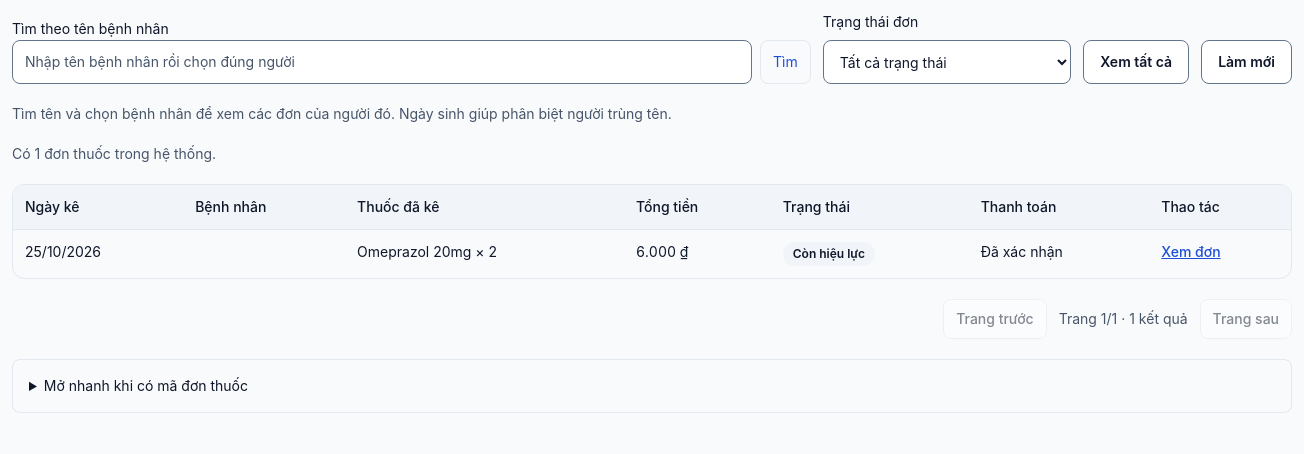
prescription list › does not turn typed patient names or failed searches into patient identifiers
Check: the link "Xem đơn" is shown, box [1161, 243, 1221, 260]
Type "Nguyễn An" into the field labelled "Tìm theo tên bệnh nhân" at {"x": 382, "y": 62}, box [12, 40, 752, 84]
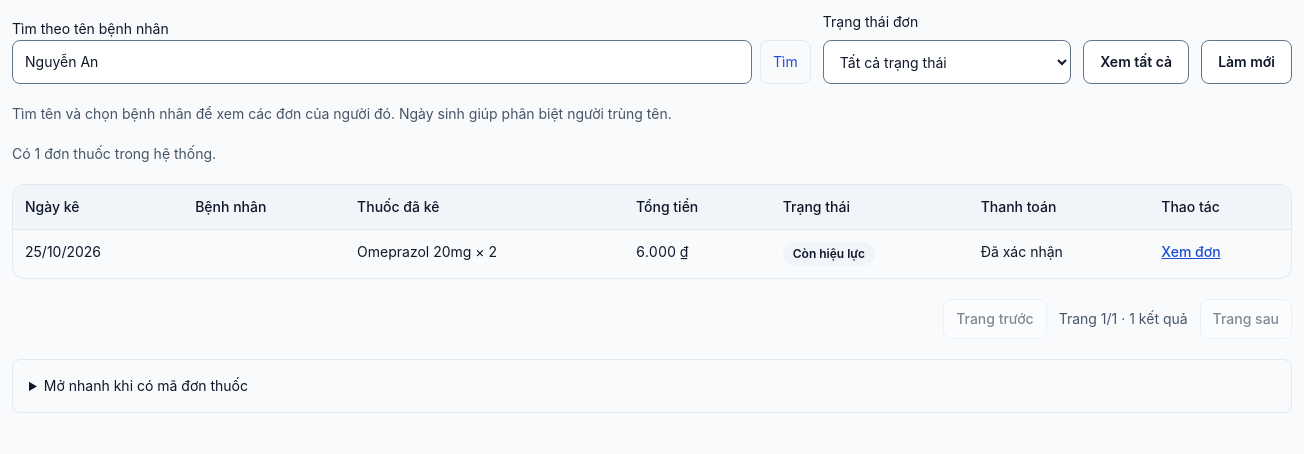
Click the button with aria-label "Tìm lựa chọn" at {"x": 785, "y": 62}, box [760, 40, 811, 84]
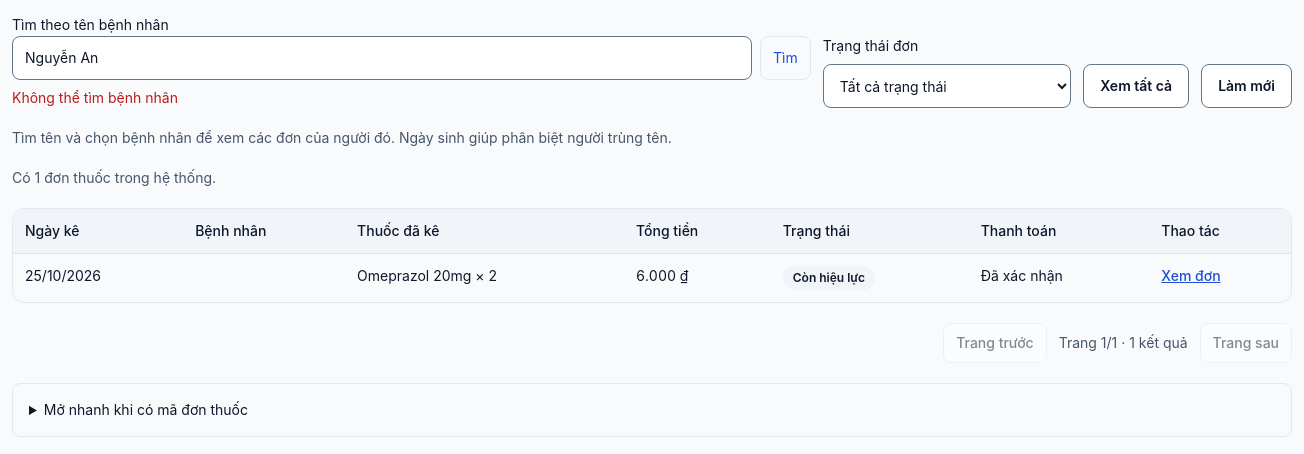
Check: the message reads "Không thể tìm bệnh nhân", box [12, 89, 178, 106]
